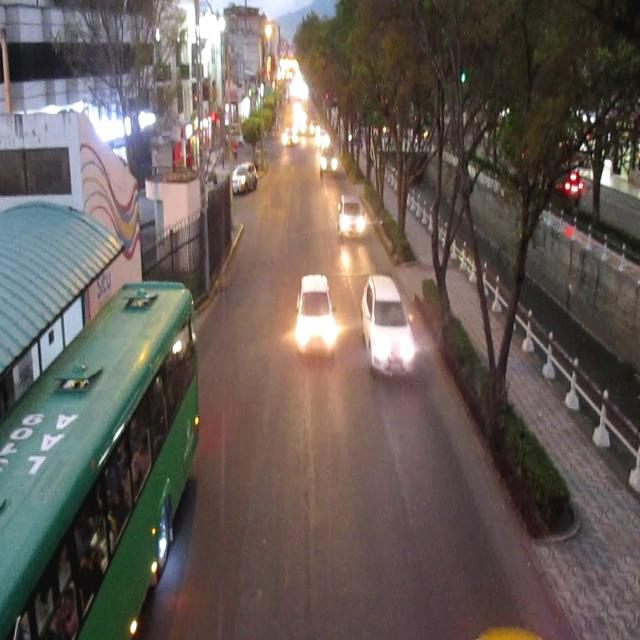BUS: (3, 284, 204, 638)
SUV: (363, 273, 417, 376), (234, 165, 257, 194)
